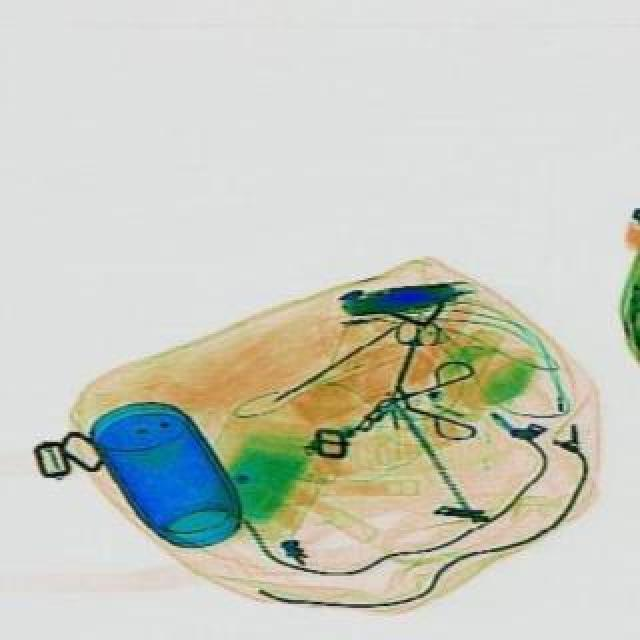pliers: (370, 314, 442, 408)
